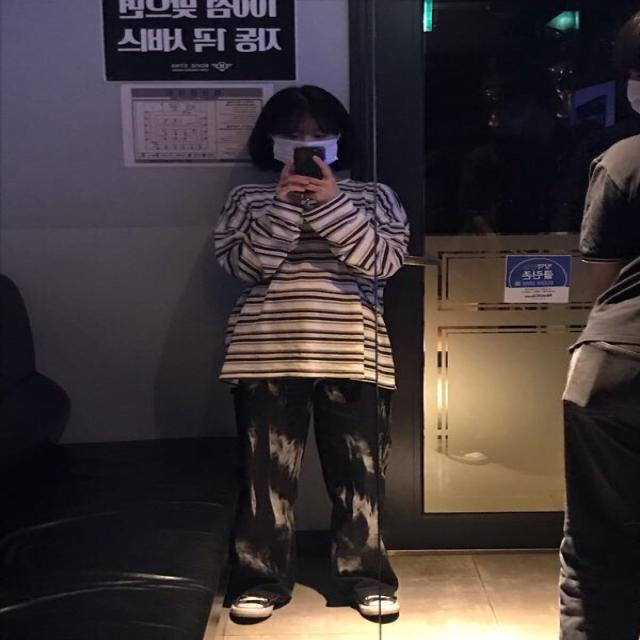denimpants: (224, 369, 403, 609)
longsleeve: (208, 182, 408, 392)
